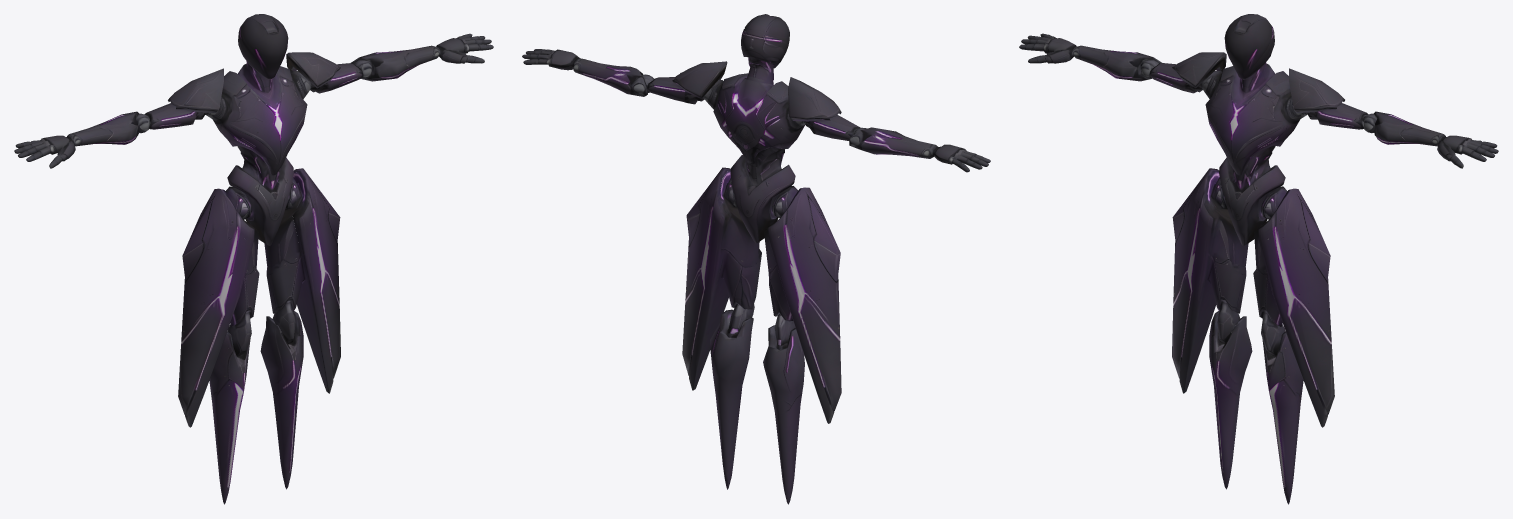
Rendered from Archange_LowPoly.glb.
3 renders of one model, left to right at view 1: azimuth 30°, elevation 25°; view 2: azimuth 150°, elevation 25°; view 3: azimuth 330°, elevation 25°, orthographic. The views are drawn at different scales.
Parts seen in each view (by area): view 1: tripo_3c51d409_a642_4add_9132_4d6e3012209b; view 2: tripo_3c51d409_a642_4add_9132_4d6e3012209b; view 3: tripo_3c51d409_a642_4add_9132_4d6e3012209b.
Boxes of the visible parts, <box> form: tripo_3c51d409_a642_4add_9132_4d6e3012209b: <box>14,14,493,504</box>; tripo_3c51d409_a642_4add_9132_4d6e3012209b: <box>522,14,990,504</box>; tripo_3c51d409_a642_4add_9132_4d6e3012209b: <box>1019,14,1498,504</box>.
Bounding box in the file's own units: 0.9995 × 0.981 × 0.146.
Materials: 1 (1 with a texture image).
